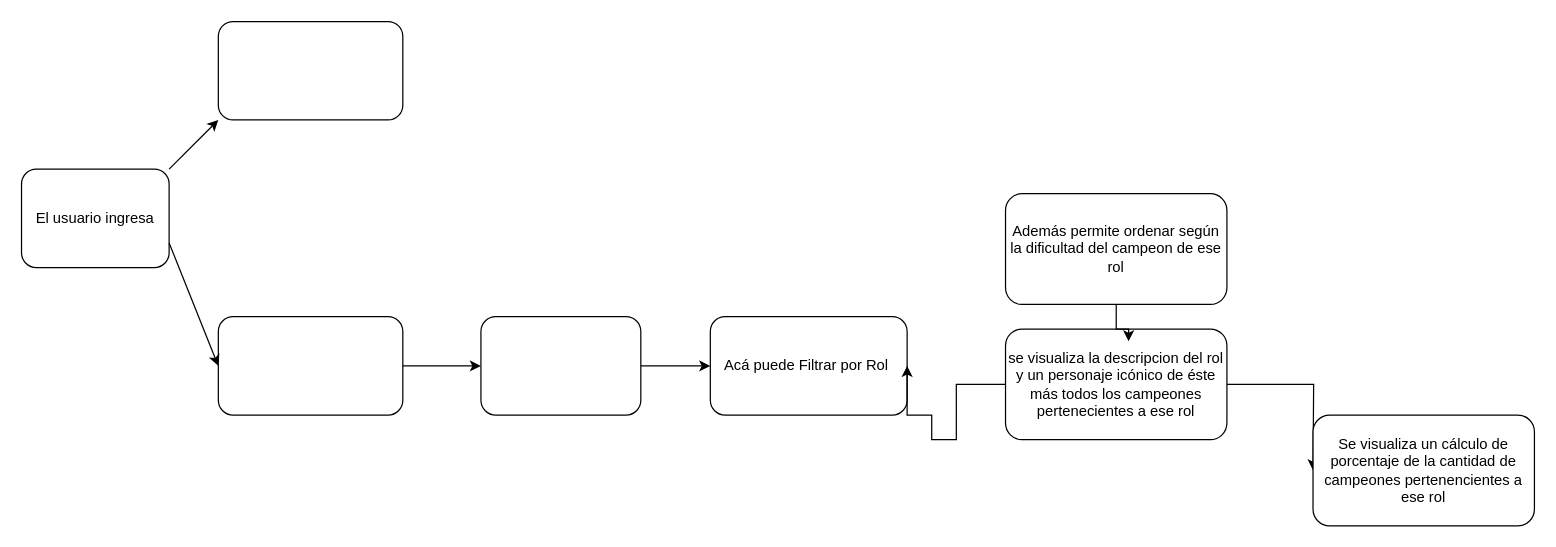
This 1556x547 diagram has some shape labels left out. Here are the shapes that lost their labels. From the top down, the centre of each, then its label:
At point (310, 70): "Puede seleccionar en Navegacion otros links de juegos".
At point (310, 365): "ve un video de bienvenida".
At point (560, 365): "Puede seleccionar el botón Inicia para que se haga un scroll a la sgte pantalla".
